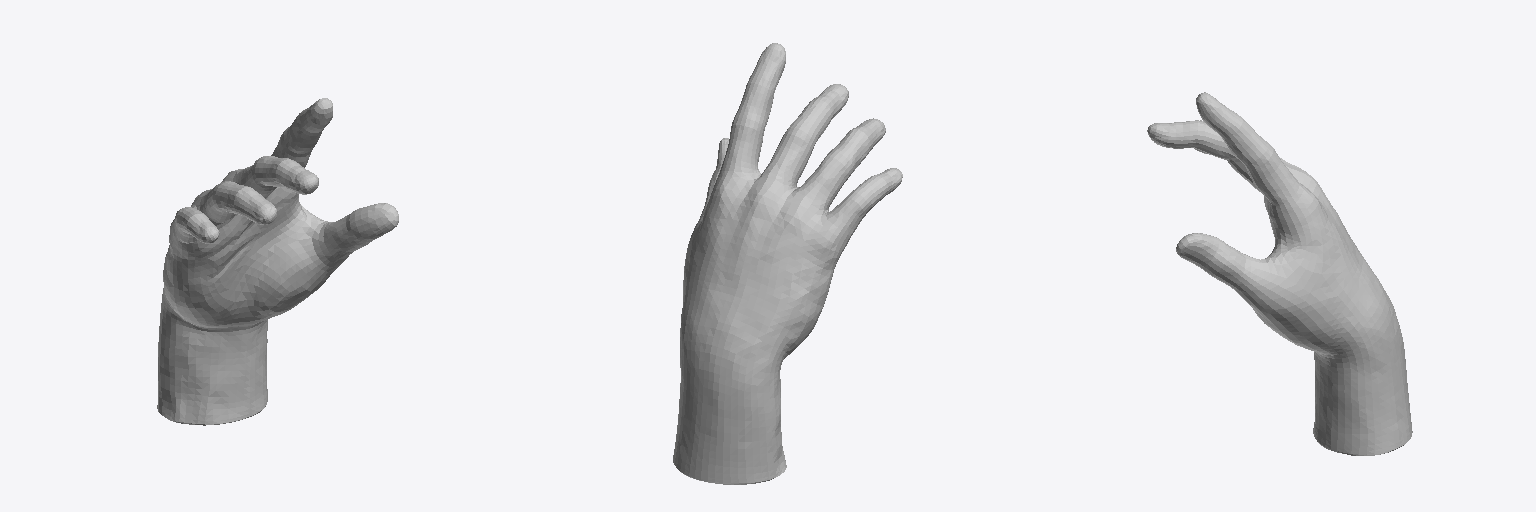
The model's file is hand_mirrored.obj.
The picture shows the model from 3 angles: view 1: azimuth 30°, elevation 25°; view 2: azimuth 150°, elevation 25°; view 3: azimuth 270°, elevation 25°; orthographic projection.
Visible parts, largest first — view 1: hand_low; view 2: hand_low; view 3: hand_low.
Part boxes in pixels (left/top/right/bottom): hand_low: left=157, top=98, right=398, bottom=425; hand_low: left=673, top=43, right=902, bottom=484; hand_low: left=1147, top=92, right=1412, bottom=455.
Bounding box in the file's own units: 1 × 1.8 × 1.22.